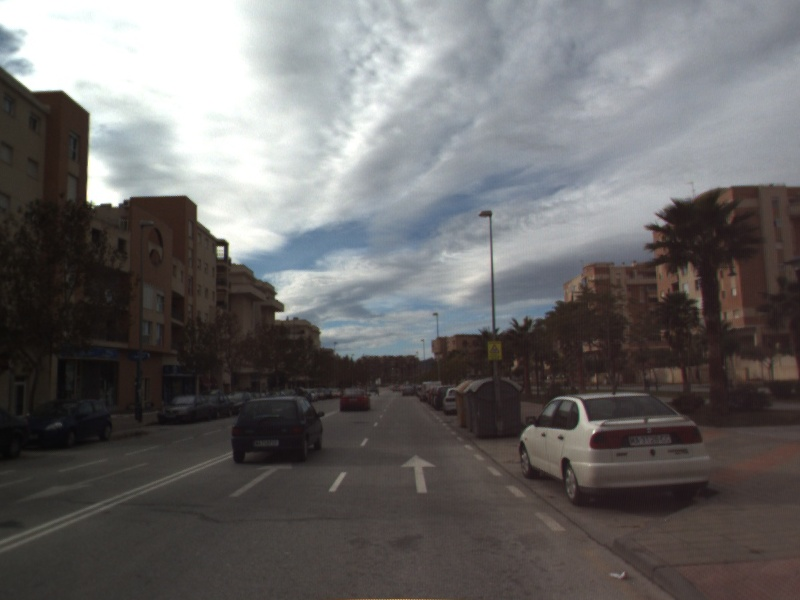STRAIGHT: (226, 459, 295, 499), (399, 452, 439, 495)
